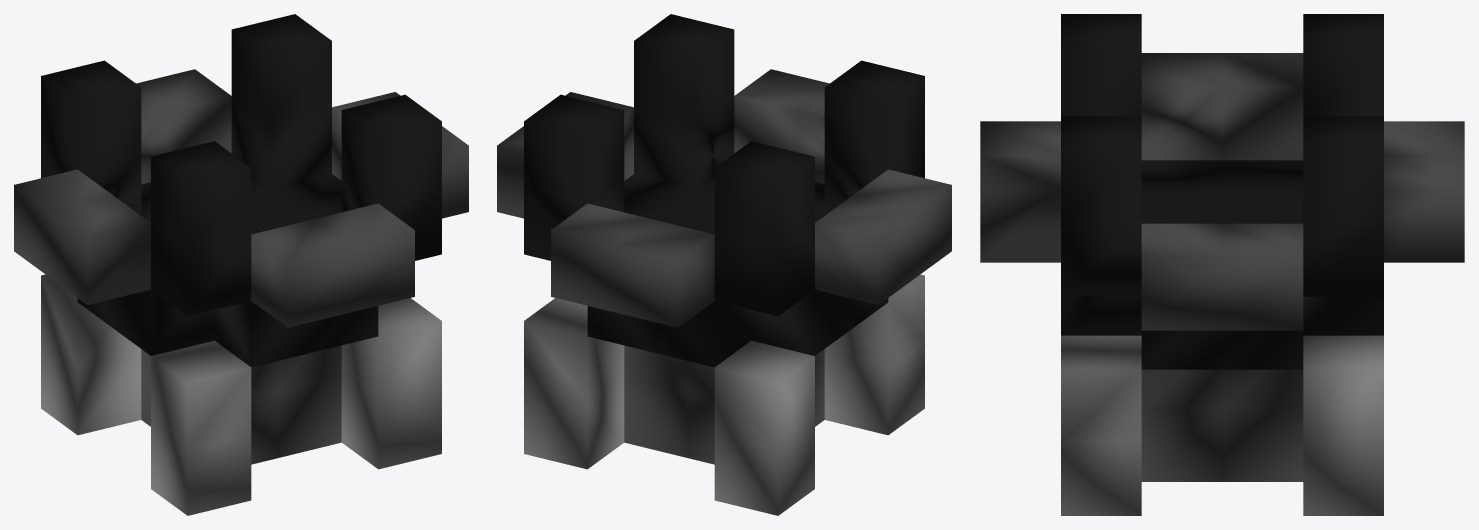
The model's file is ArcherTower.fbx.
3 renders of one model, left to right at view 1: azimuth 30°, elevation 25°; view 2: azimuth 150°, elevation 25°; view 3: azimuth 270°, elevation 25°, orthographic. The views are drawn at different scales.
Visible parts, largest first — view 1: ArcherTower; view 2: ArcherTower; view 3: ArcherTower.
Boxes of the visible parts, x1,y1,x2,y2 form: ArcherTower: [14, 14, 468, 515]; ArcherTower: [497, 14, 951, 515]; ArcherTower: [980, 14, 1464, 515].
Bounding box in the file's own units: 0.6 × 0.5 × 0.6.
